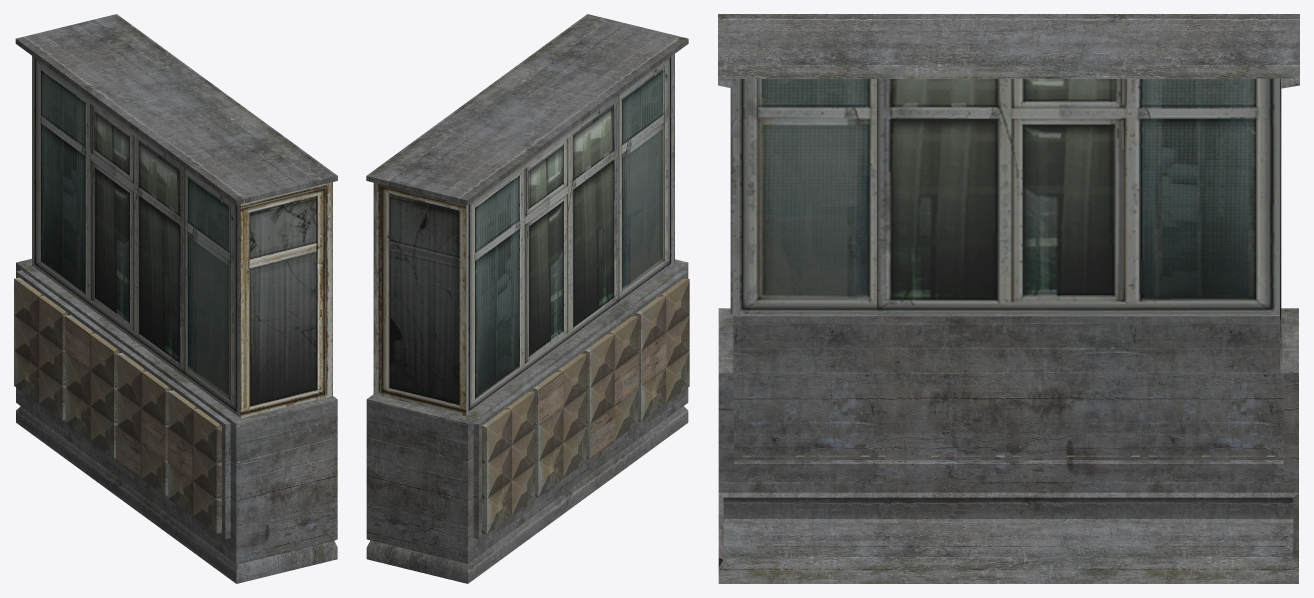
The model's file is civ_balcony_b.FBX.
The picture shows the model from 3 angles, left to right: view 1: azimuth 30°, elevation 25°; view 2: azimuth 150°, elevation 25°; view 3: azimuth 270°, elevation 25°; orthographic projection. The views are drawn at different scales.
Visible parts, largest first — view 1: civ_balcony_b; view 2: civ_balcony_b; view 3: civ_balcony_b.
Boxes of the visible parts, left/top/right/bottom form: civ_balcony_b: left=14, top=14, right=337, bottom=583; civ_balcony_b: left=366, top=14, right=689, bottom=583; civ_balcony_b: left=718, top=14, right=1299, bottom=583.
Bounding box in the file's own units: 87.92 × 288 × 300.
